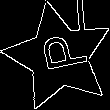P_W: (30, 34, 88, 80)
